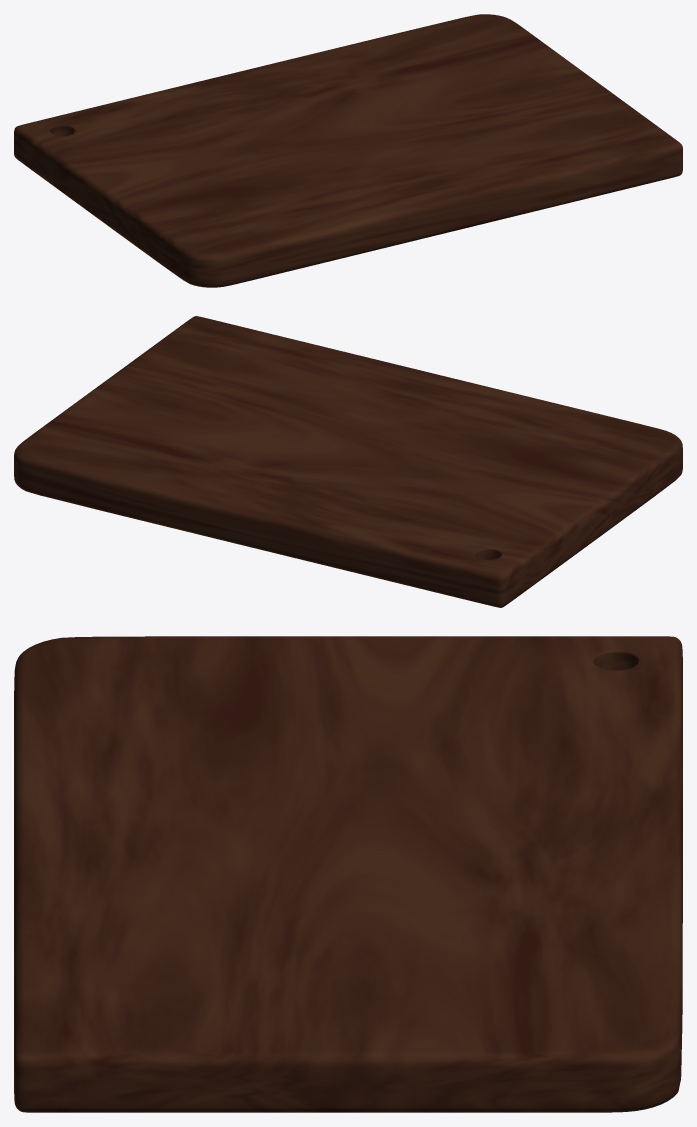
Rendered from uploads_files_4288484_cutting_board.fbx.
3 renders of one model, top to bottom at view 1: azimuth 30°, elevation 25°; view 2: azimuth 150°, elevation 25°; view 3: azimuth 270°, elevation 25°, orthographic. The views are drawn at different scales.
Visible parts, largest first — view 1: cutting_board; view 2: cutting_board; view 3: cutting_board.
Part boxes in pixels (box(x1,y1,x2,y2)): cutting_board: box(14, 14, 682, 287); cutting_board: box(14, 316, 682, 607); cutting_board: box(14, 636, 682, 1112).
Bounding box in the file's own units: 30 × 2 × 20.
